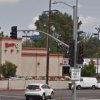Car: (14, 77, 69, 99)
